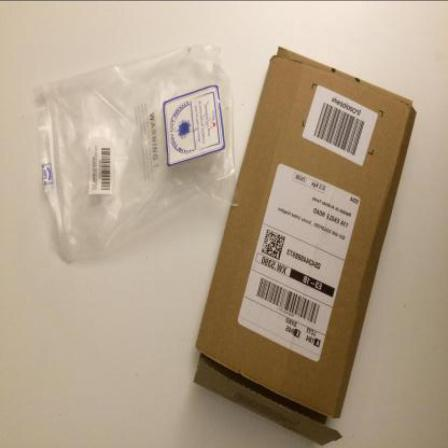Carton: (195, 46, 418, 446)
Plastic bag - wrapper: (33, 46, 240, 263)
